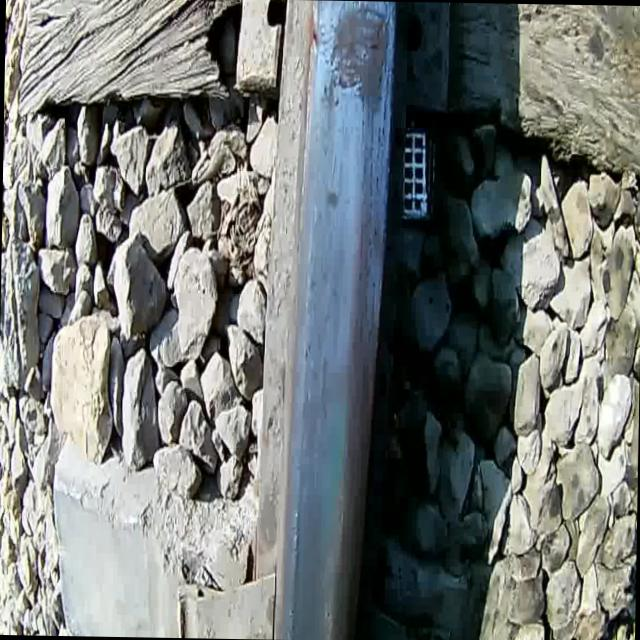Cracks: (364, 1, 397, 210)
Squats: (316, 0, 393, 118)
